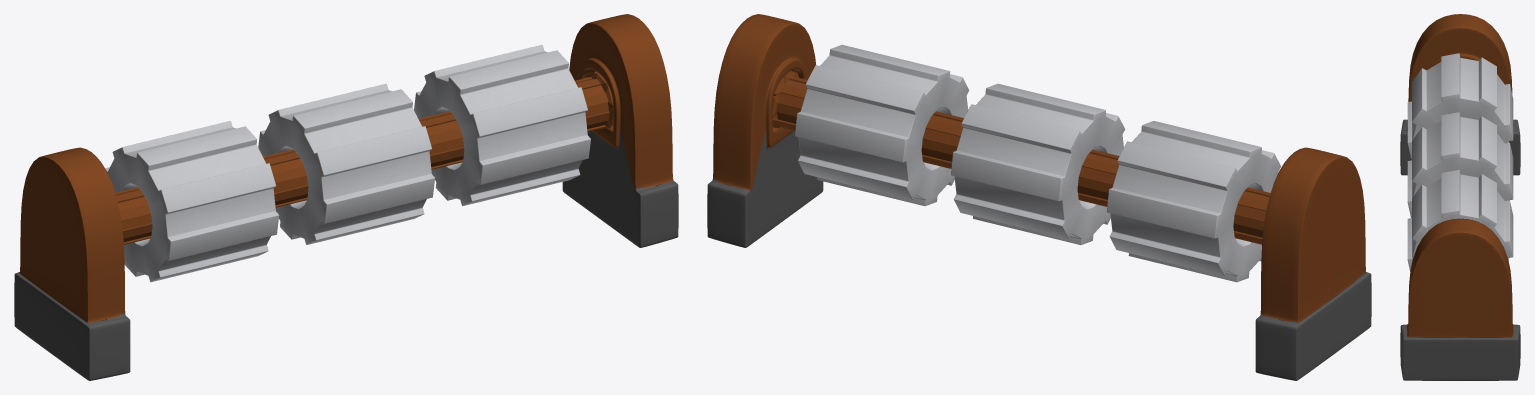
File: theSpinner.glb
3 views of the same model, side by side, from view 1: azimuth 30°, elevation 25°; view 2: azimuth 150°, elevation 25°; view 3: azimuth 270°, elevation 25° (orthographic). The views are drawn at different scales.
Parts seen in each view (by area): view 1: gearSpinner-feet, gear1-loop, gear2-loop, gear-center-loop; view 2: gearSpinner-feet, gear1-loop, gear2-loop, gear-center-loop; view 3: gearSpinner-feet, gear1-loop, gear2-loop.
Boxes of the visible parts, bbox=[...] form: gearSpinner-feet: bbox=[14, 14, 678, 380]; gear1-loop: bbox=[105, 45, 590, 282]; gear2-loop: bbox=[258, 83, 434, 244]; gear-center-loop: bbox=[115, 71, 613, 244]; gearSpinner-feet: bbox=[707, 14, 1371, 380]; gear1-loop: bbox=[795, 44, 1280, 282]; gear2-loop: bbox=[951, 83, 1124, 244]; gear-center-loop: bbox=[772, 71, 1270, 244]; gearSpinner-feet: bbox=[1400, 14, 1520, 380]; gear1-loop: bbox=[1407, 53, 1513, 271]; gear2-loop: bbox=[1407, 112, 1513, 217].
Size of the model in its own units: 3.71 by 1.17 by 0.8549.
3 materials, 1 textured.
